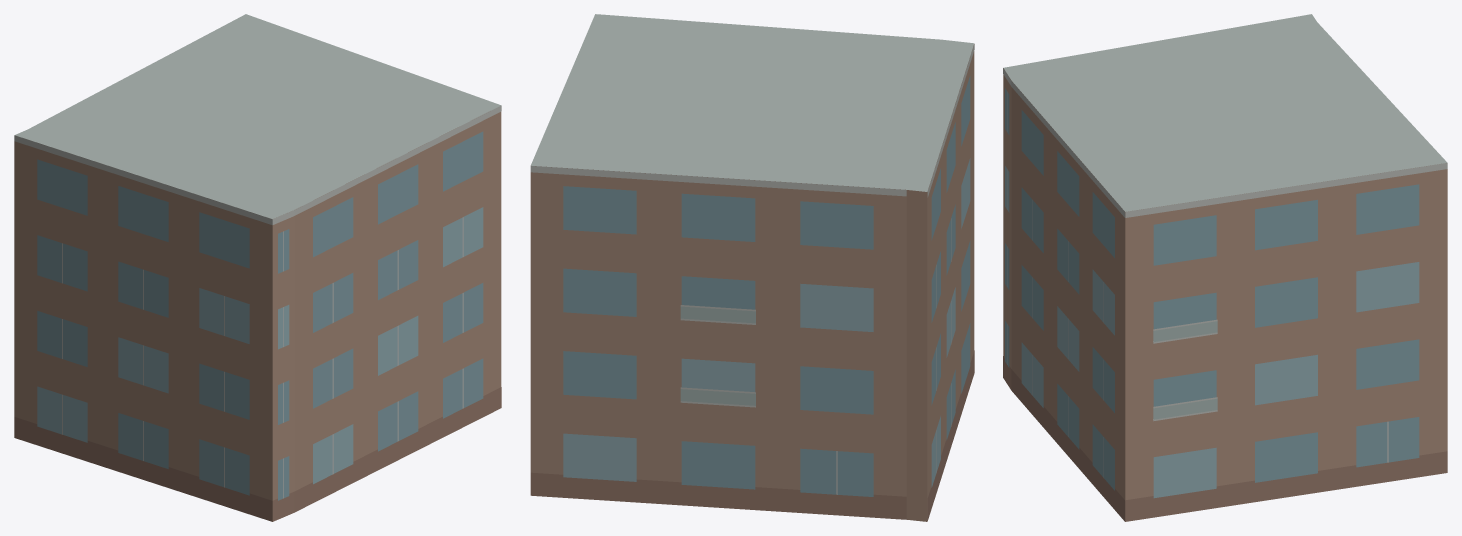
The model's file is survey-upis-32884505.glb.
3 renders of one model, left to right at view 1: azimuth 30°, elevation 25°; view 2: azimuth 150°, elevation 25°; view 3: azimuth 270°, elevation 25°, orthographic. The views are drawn at different scales.
Visible parts, largest first — view 1: survey-upis-32884505.tmp; view 2: survey-upis-32884505.tmp; view 3: survey-upis-32884505.tmp.
Boxes of the visible parts, x1,y1,x2,y2 form: survey-upis-32884505.tmp: (14, 14, 501, 521); survey-upis-32884505.tmp: (530, 14, 974, 521); survey-upis-32884505.tmp: (1003, 14, 1447, 521).
Bounding box in the file's own units: 16.71 × 12.2 × 15.86.
